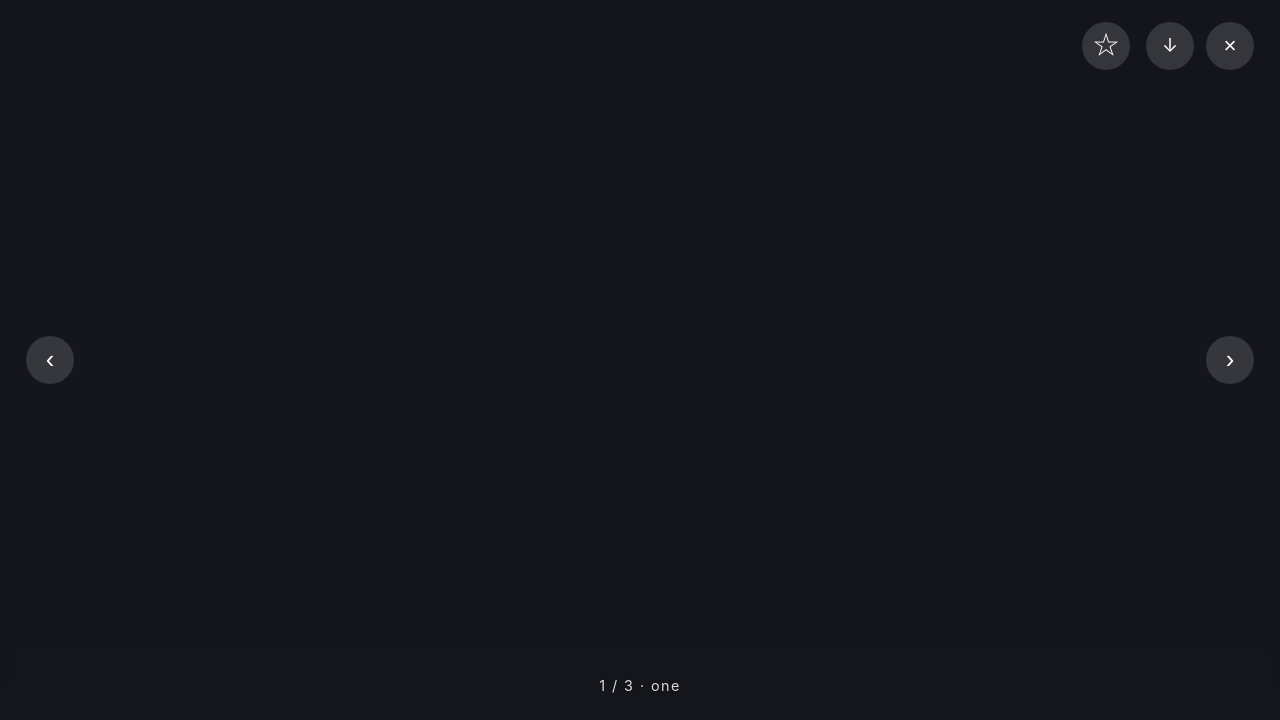
Test: Lightbox 收藏 › 点击 ⭐ 收藏,再点取消,LS 同步
Click the button with class "lb-fav" at [1106, 46], box [1082,22,1130,70]
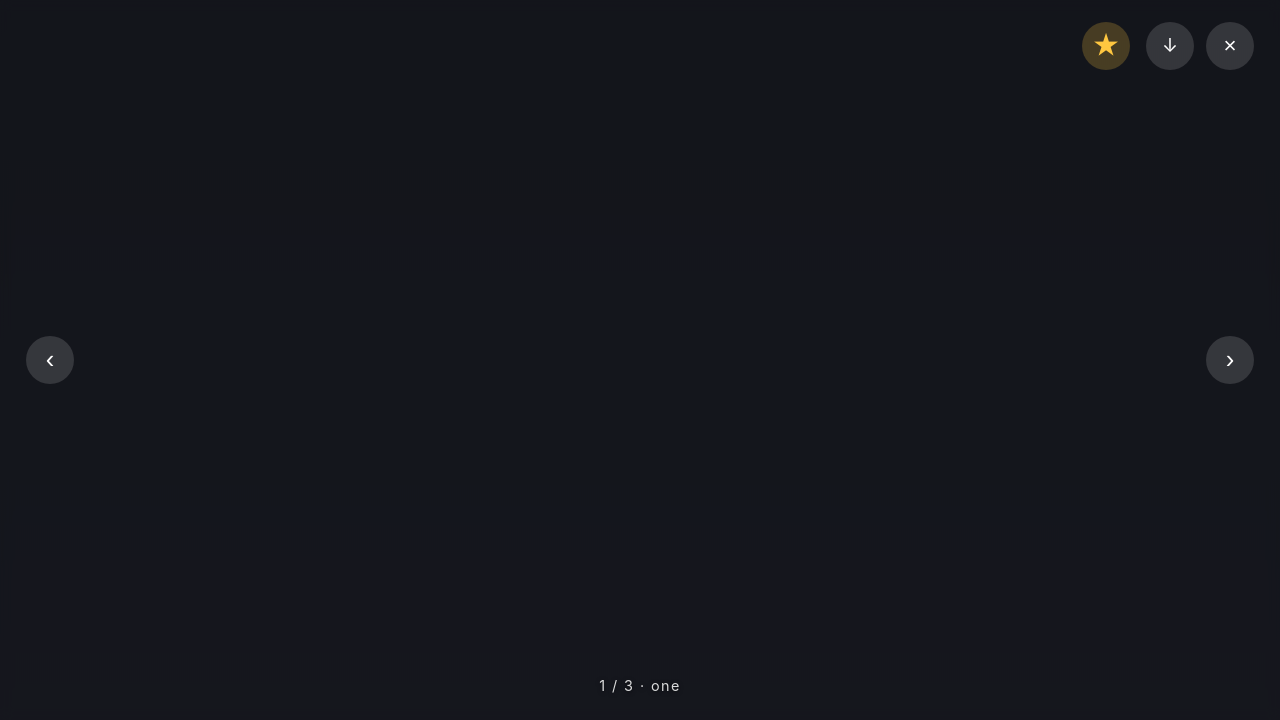
Check: the button with class "lb-fav" reads "★"
Click the button with class "lb-fav" at [1106, 46], box [1082,22,1130,70]
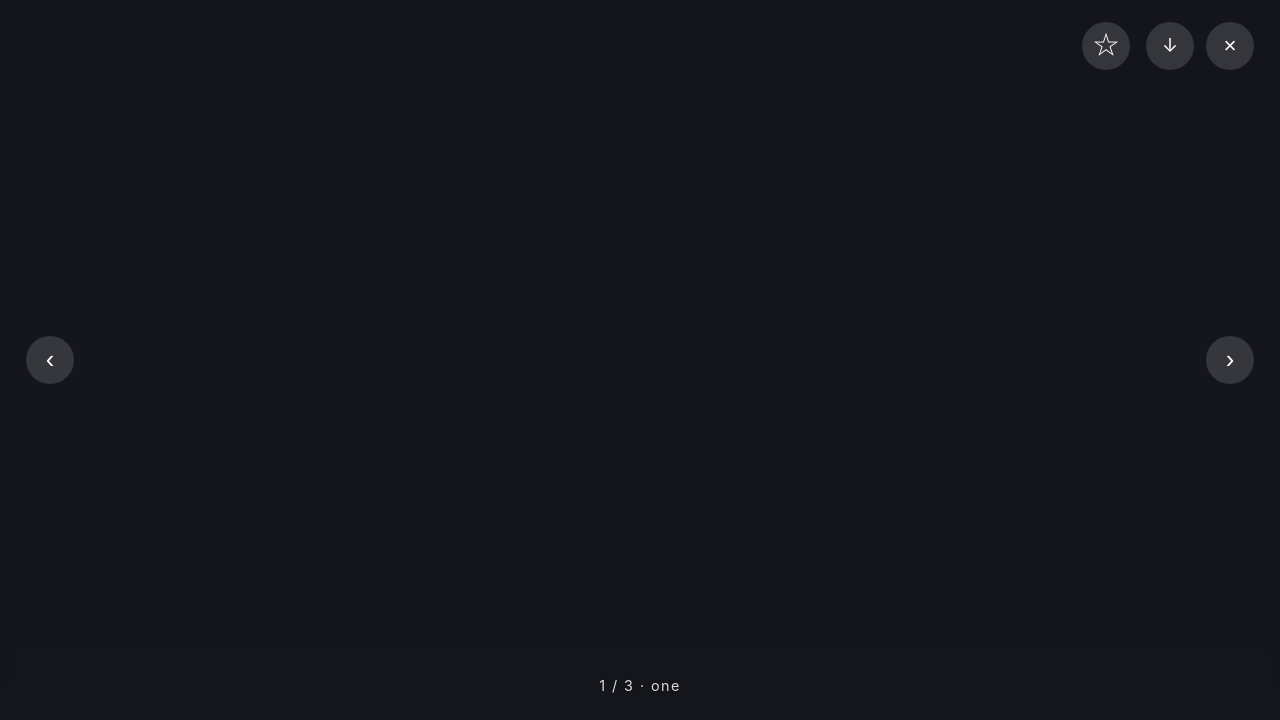
Check: the button with class "lb-fav" reads "☆", box [1082,22,1130,70]
